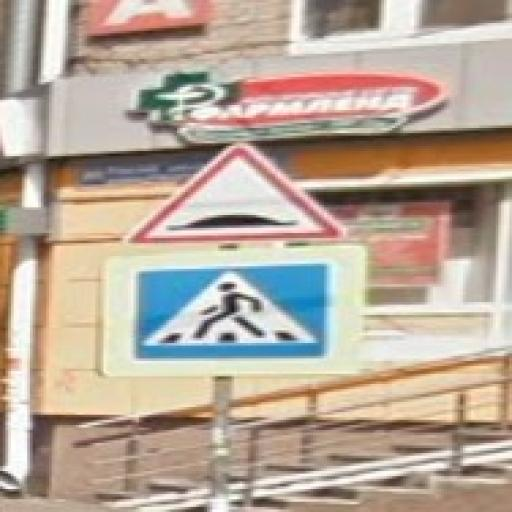traffic_sign: (102, 244, 366, 380), (121, 142, 347, 249)
